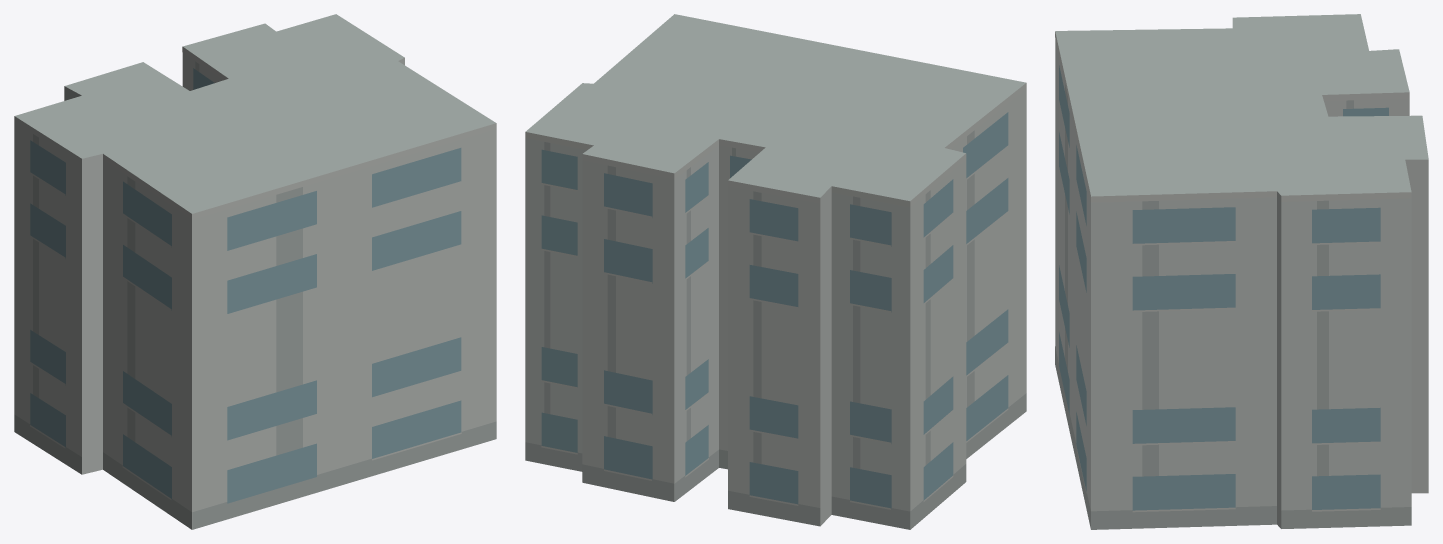
The model's file is survey-upis-32580257.glb.
3 views of the same model, side by side, from view 1: azimuth 30°, elevation 25°; view 2: azimuth 150°, elevation 25°; view 3: azimuth 270°, elevation 25° (orthographic). The views are drawn at different scales.
Visible parts, largest first — view 1: survey-upis-32580257.tmp; view 2: survey-upis-32580257.tmp; view 3: survey-upis-32580257.tmp.
Boxes of the visible parts, x1=… form: survey-upis-32580257.tmp: x1=14, y1=14, x2=496, y2=529; survey-upis-32580257.tmp: x1=525, y1=14, x2=1026, y2=529; survey-upis-32580257.tmp: x1=1055, y1=14, x2=1428, y2=529.
Bounding box in the file's own units: 15.15 × 12.9 × 13.11.
